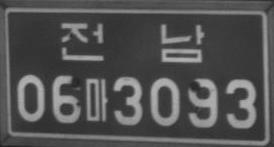0: (149, 76, 181, 127), (16, 74, 46, 122)
3: (225, 78, 257, 129), (113, 75, 144, 126)
6: (51, 74, 82, 123)
9: (187, 76, 218, 128)
마: (84, 77, 108, 121)
전남_D: (60, 22, 205, 63)
